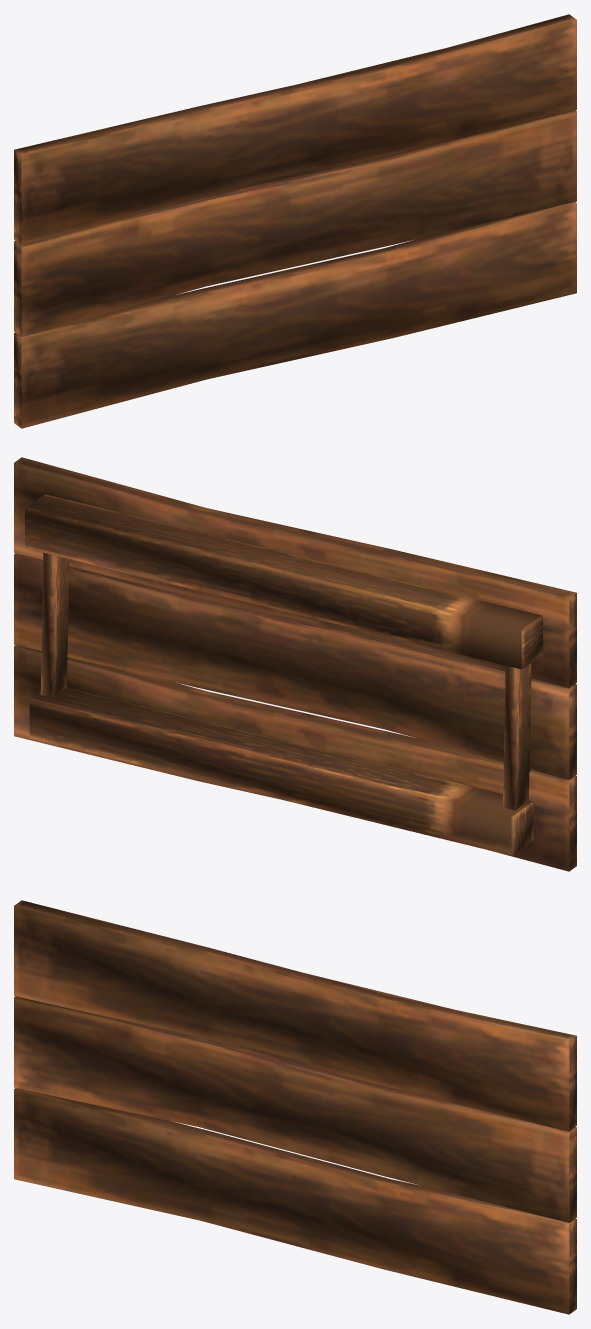
Rendered from INST_SWORDLIGHT_SCAFFTOP.obj.
3 renders of one model, top to bottom at view 1: azimuth 30°, elevation 25°; view 2: azimuth 150°, elevation 25°; view 3: azimuth 330°, elevation 25°, orthographic.
Visible parts, largest first — view 1: caffTop_lod1_01; view 2: caffTop_lod1_01; view 3: caffTop_lod1_01.
Part boxes in pixels (x1,y1,x2,y2): caffTop_lod1_01: [14, 14, 576, 428]; caffTop_lod1_01: [14, 457, 576, 871]; caffTop_lod1_01: [14, 900, 576, 1314].
Size of the model in its own units: 238 by 112 by 21.38.
